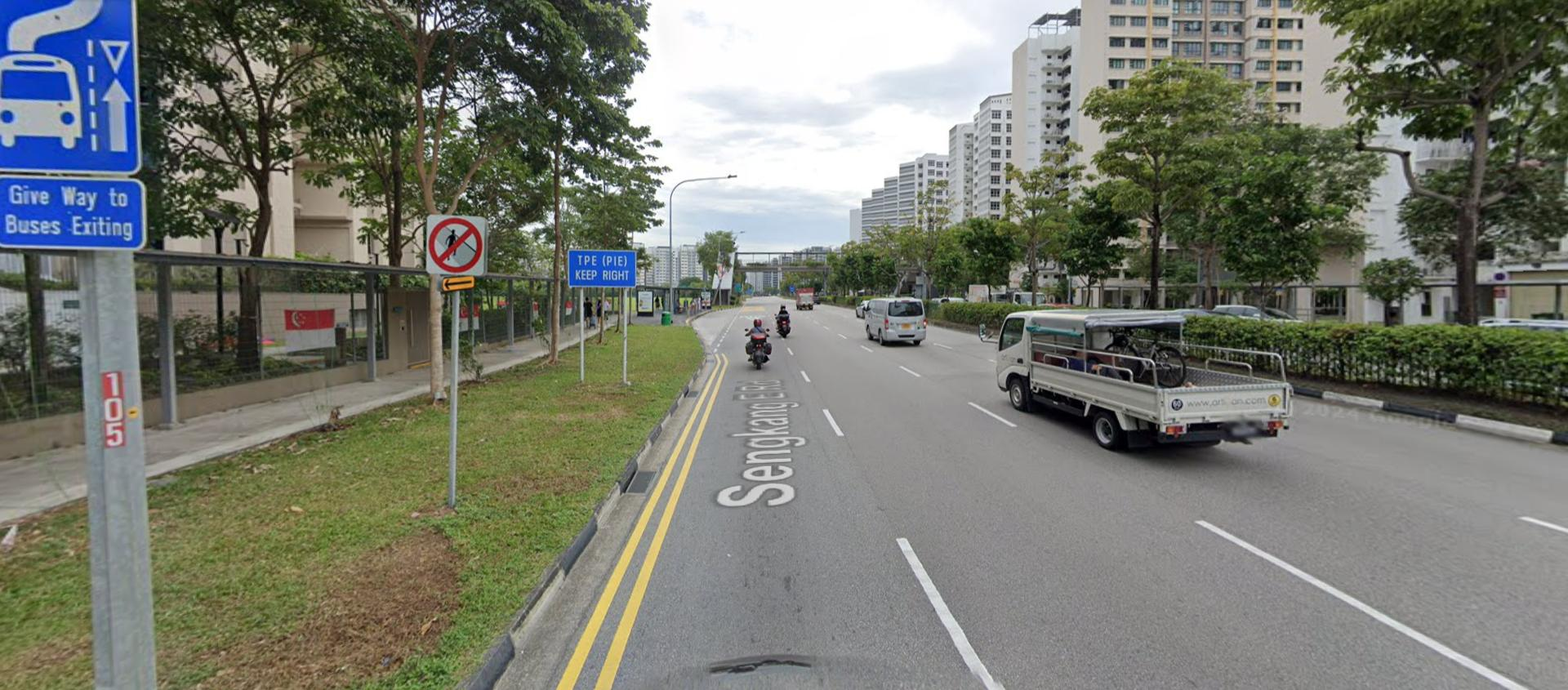normal: (625, 469, 655, 495)
